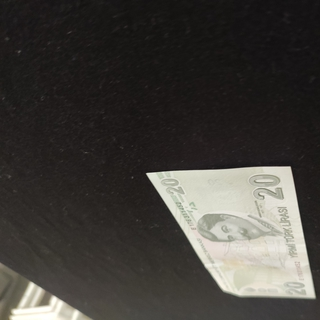20TLBack: (145, 165, 317, 300)
